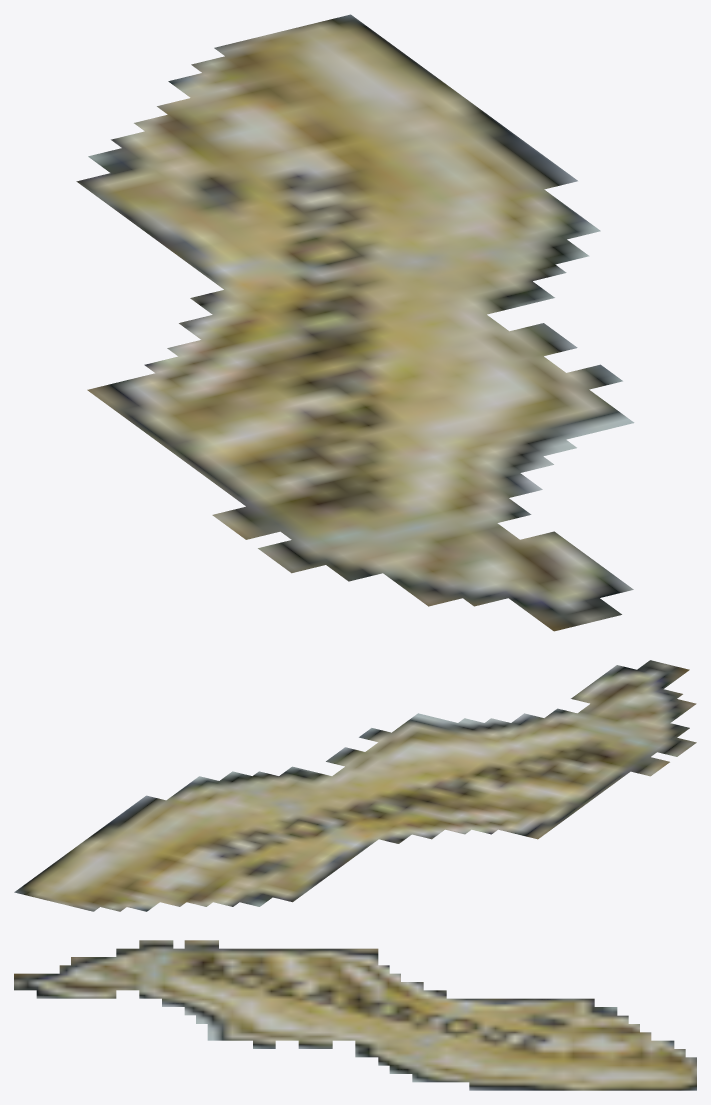
File: mozambique.gltf
The picture shows the model from 3 angles, top to bottom: view 1: azimuth 30°, elevation 25°; view 2: azimuth 150°, elevation 25°; view 3: azimuth 270°, elevation 25°; orthographic projection. The views are drawn at different scales.
Parts seen in each view (by area): view 1: Plane; view 2: Plane; view 3: Plane.
Part boxes in pixels (<box>): Plane: <box>76,14,634,631</box>; Plane: <box>14,660,696,911</box>; Plane: <box>14,940,696,1090</box>.
Size of the model in its own units: 0.1777 by 0 by 0.3407.
Materials: 1 (1 with a texture image).
